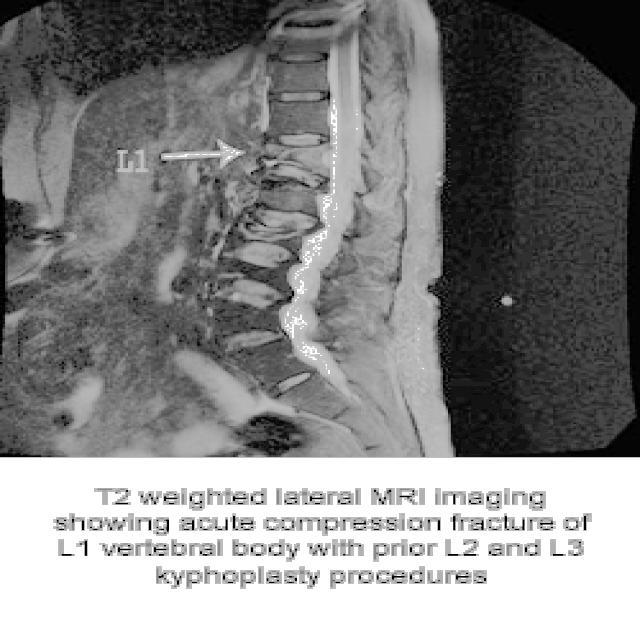Compression-Crush Fracutre: (249, 134, 323, 186)
